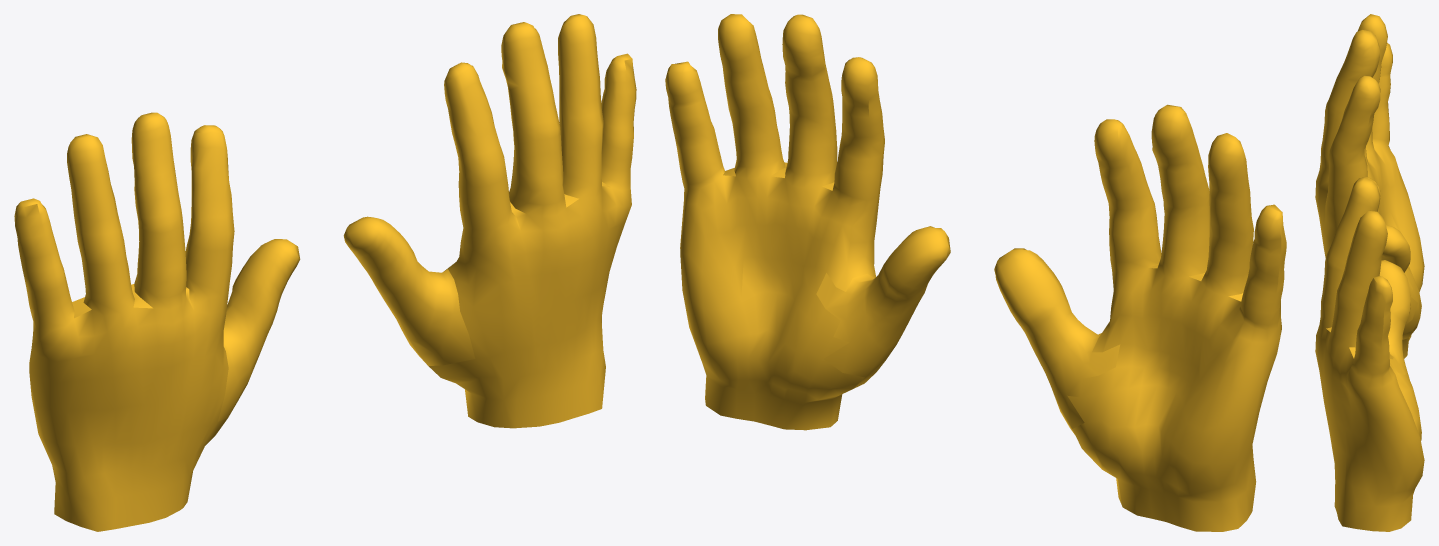
File: arm.fbx
3 renders of one model, left to right at view 1: azimuth 30°, elevation 25°; view 2: azimuth 150°, elevation 25°; view 3: azimuth 270°, elevation 25°, orthographic. The views are drawn at different scales.
Parts seen in each view (by area): view 1: Plane, Plane.001; view 2: Plane.001, Plane; view 3: Plane.001, Plane.
Boxes of the visible parts, x1,y1,x2,y2 form: Plane: [14, 112, 300, 531]; Plane.001: [343, 14, 636, 428]; Plane.001: [665, 14, 950, 430]; Plane: [994, 104, 1286, 531]; Plane.001: [1315, 177, 1424, 531]; Plane: [1315, 14, 1424, 358].
Bounding box in the file's own units: 3244 × 1975 × 609.
